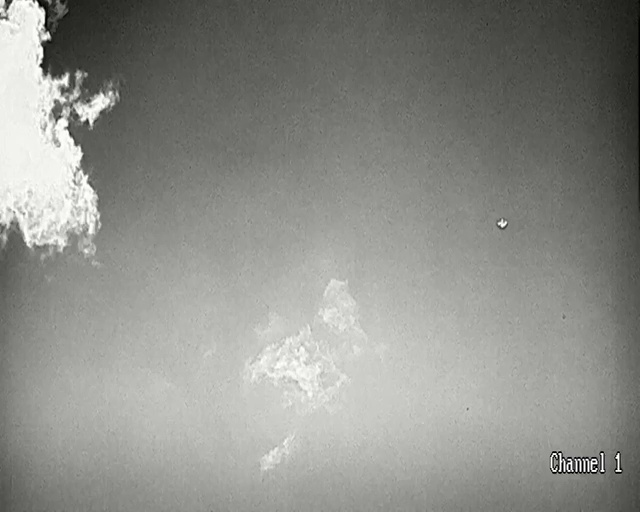uav: (497, 218, 507, 227)
